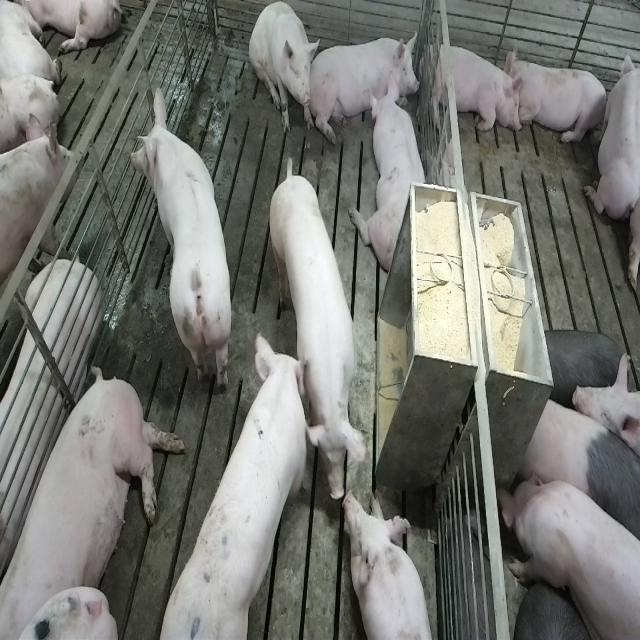Lateral_lying: (4, 362, 187, 636), (0, 257, 103, 580)
Sitting: (249, 3, 319, 137)
Standing: (151, 334, 311, 640), (267, 153, 365, 500), (128, 86, 235, 401), (499, 468, 638, 640), (518, 390, 638, 568), (0, 120, 77, 367)
Sternal_lying: (357, 84, 430, 275), (347, 489, 438, 638), (312, 27, 420, 138), (583, 42, 637, 224), (425, 38, 523, 138), (509, 52, 609, 149)
